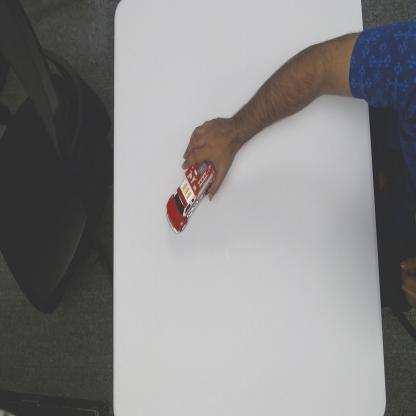Arm: (238, 23, 372, 148)
Firetruck: (162, 159, 215, 239)
Hand: (181, 111, 237, 201)
